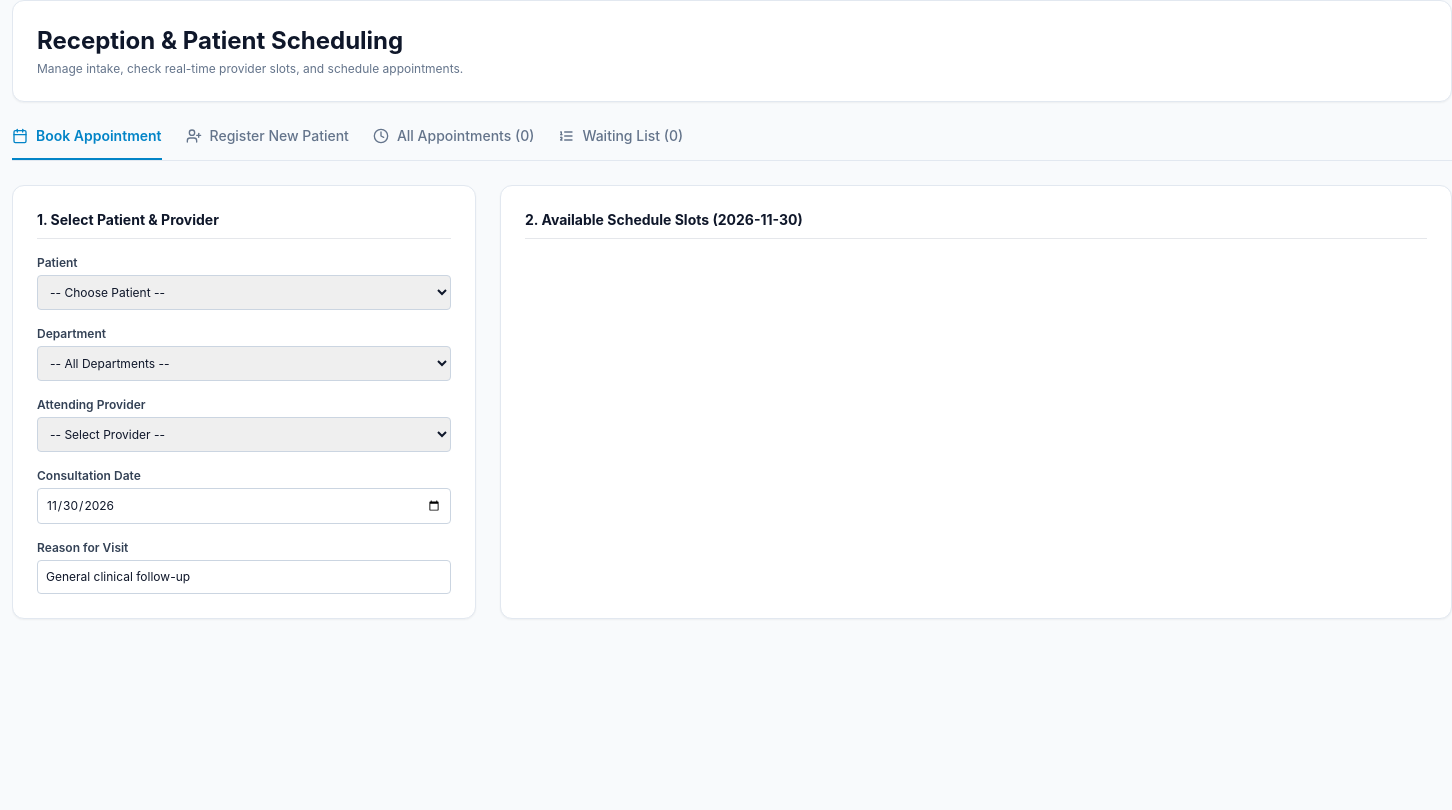
Scenario: UI State Alerts & Badges (MC-01, MC-05) › renders check-in action on ReceptionistDashboard scheduled appointments
# Click on All Appointments tab
Click the button "All Appointments (0)": (454, 143) [373,126,534,160]
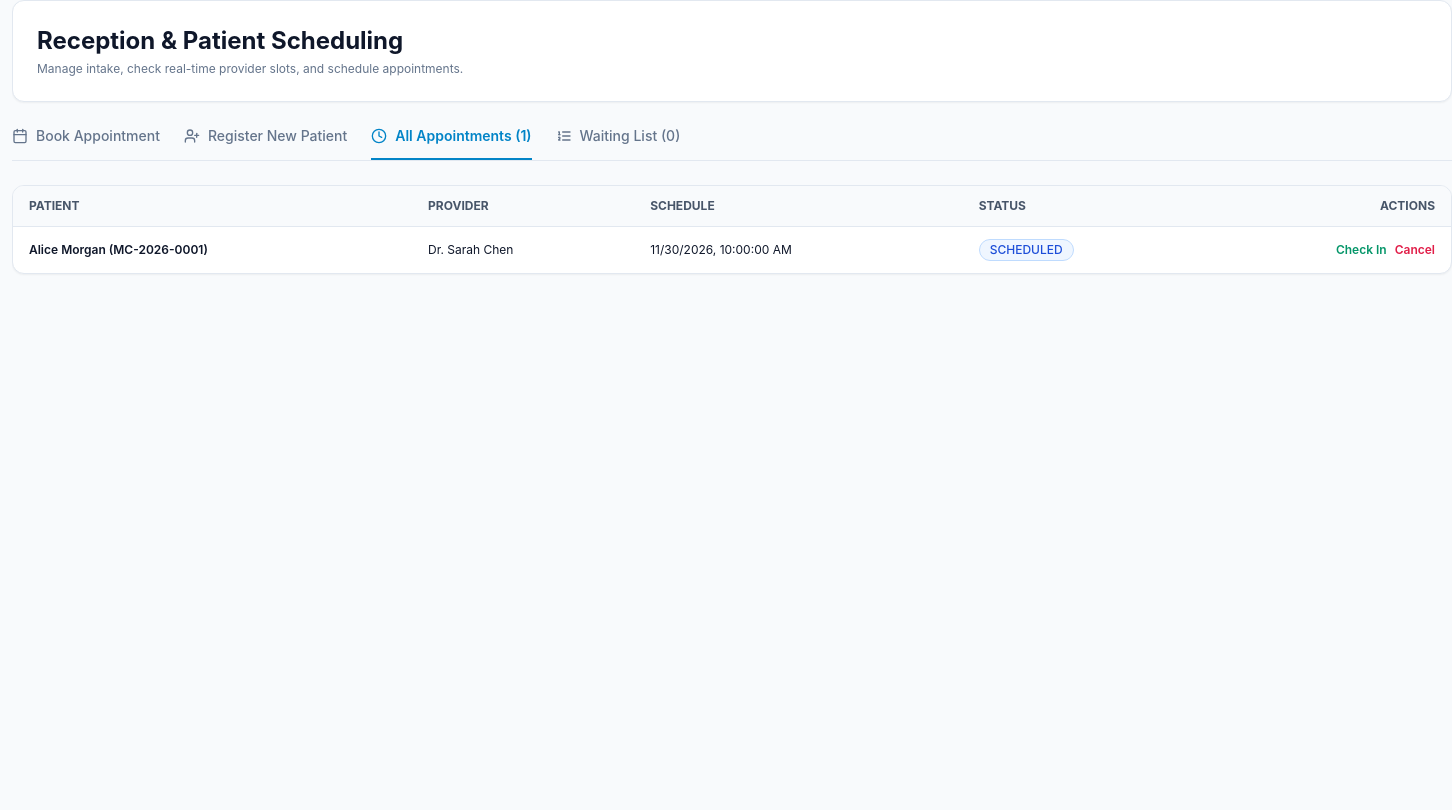
Result: the button "Check In" is shown at [1336,242,1387,258]
